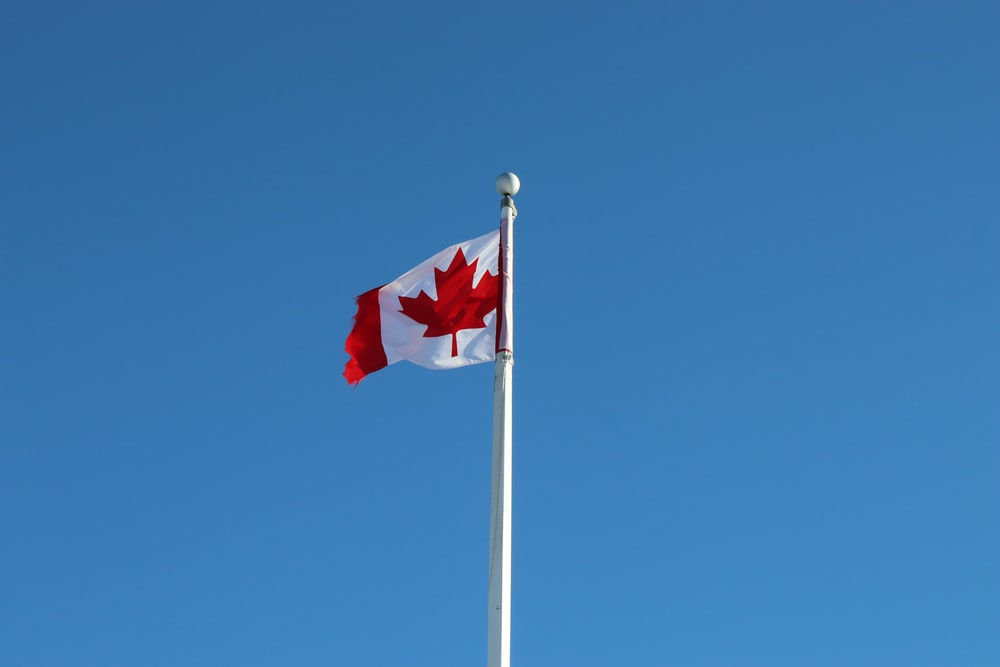Canada flag: (340, 231, 511, 385)
